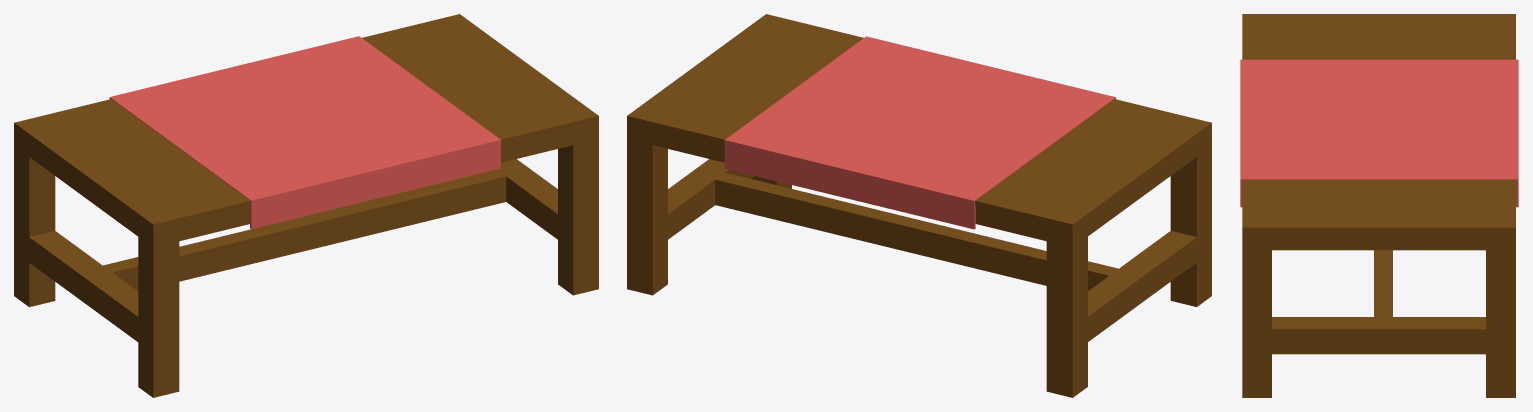
File: bord (3).fbx
3 renders of one model, left to right at view 1: azimuth 30°, elevation 25°; view 2: azimuth 150°, elevation 25°; view 3: azimuth 270°, elevation 25°, orthographic.
Visible parts, largest first — view 1: Cube, Plane; view 2: Cube, Plane; view 3: Cube, Plane.
Part boxes in pixels (<box>): Cube: <box>14,14,598,397</box>; Plane: <box>109,36,500,229</box>; Cube: <box>627,14,1211,397</box>; Plane: <box>724,36,1115,229</box>; Cube: <box>1242,14,1515,397</box>; Plane: <box>1240,59,1518,207</box>.
Size of the model in its own units: 1185 by 443 by 652.
